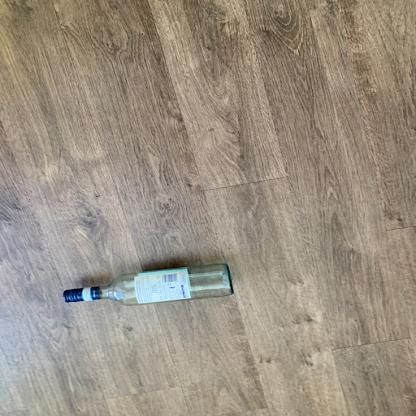trash: (61, 260, 240, 312)
